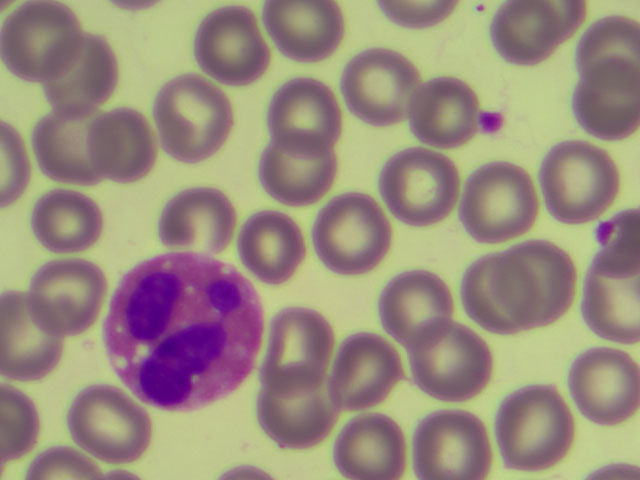RBC: (412, 397, 492, 480), (153, 74, 232, 157), (190, 2, 269, 85), (340, 42, 419, 125), (267, 64, 346, 147), (255, 135, 334, 218), (236, 204, 315, 287), (160, 176, 239, 259), (30, 177, 109, 260), (24, 259, 103, 342), (70, 385, 149, 468), (250, 372, 329, 455), (267, 297, 346, 380), (321, 327, 400, 410), (382, 256, 461, 339), (408, 318, 487, 401), (461, 251, 540, 334), (516, 237, 595, 320), (453, 161, 532, 244), (542, 134, 621, 217), (561, 62, 640, 145), (561, 1, 640, 84), (312, 194, 391, 277), (245, 205, 324, 288), (381, 147, 460, 230), (406, 73, 485, 156), (494, 385, 573, 468), (561, 341, 640, 424), (494, 1, 573, 83), (331, 408, 403, 480), (268, 1, 345, 68), (1, 295, 63, 377), (95, 109, 159, 182), (33, 116, 97, 189), (58, 35, 122, 108), (6, 4, 70, 77), (477, 107, 509, 138), (594, 216, 615, 242)
WBC: (104, 253, 271, 407)
